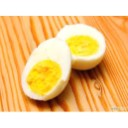begg: (22, 39, 72, 99), (75, 25, 104, 65)
